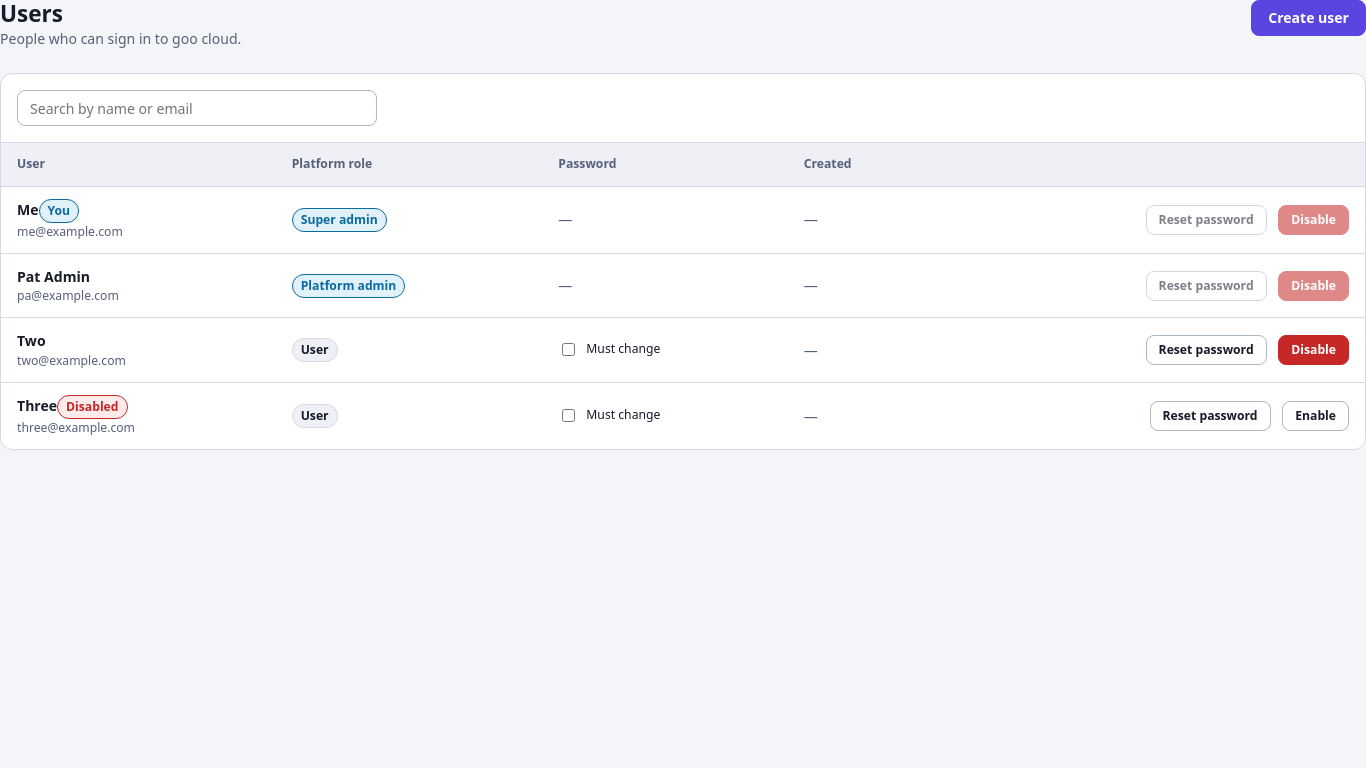
Scenario: UsersPage role-based UI › disable / enable › the server's refusal is surfaced in the dialog and the row is unchanged
The image size is (1366, 768).
What coordinates should you click on to do the following:
click the button with aria-label "Disable two@example.com"
I would click on:
 (1314, 350)
Its box is left=1278, top=335, right=1349, bottom=365.
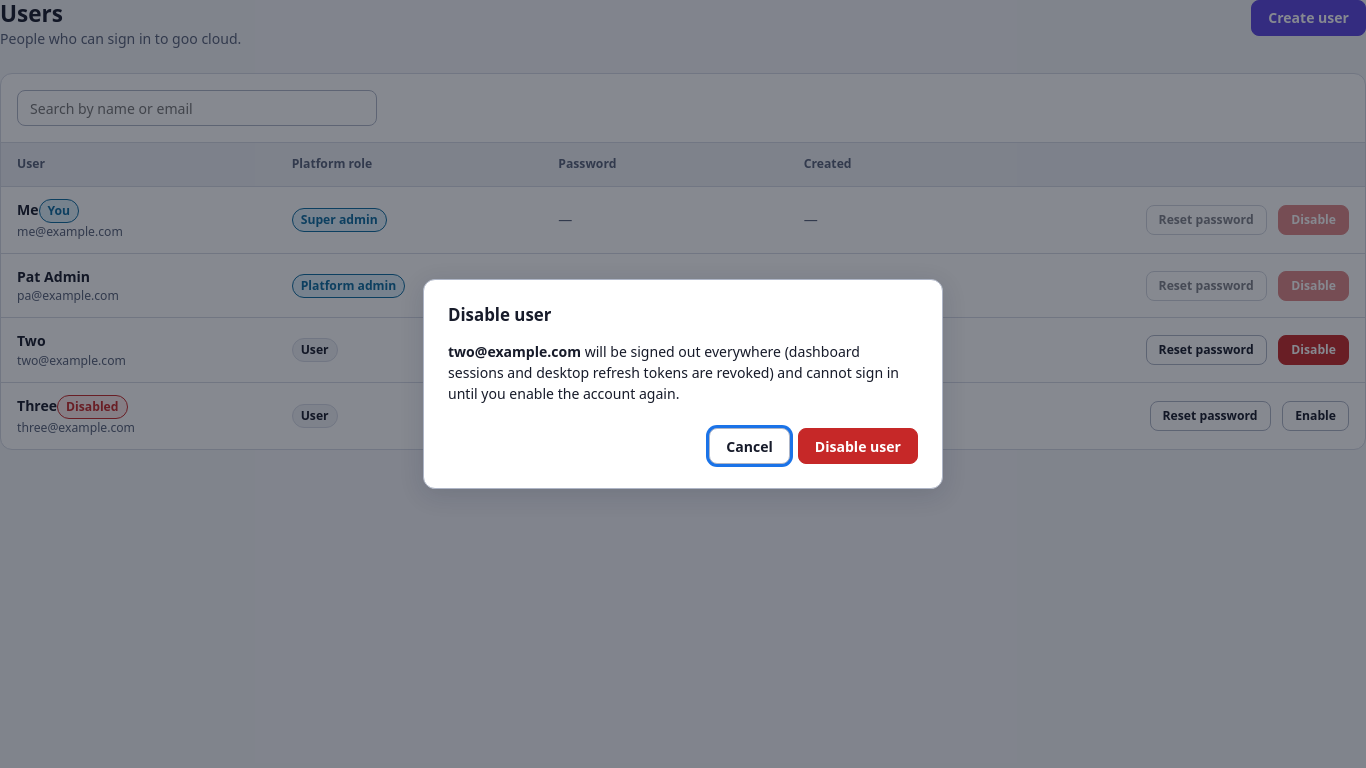
What coordinates should you click on to do the following:
click the button "Disable user"
I would click on:
 (858, 446)
Its box is left=798, top=428, right=918, bottom=464.
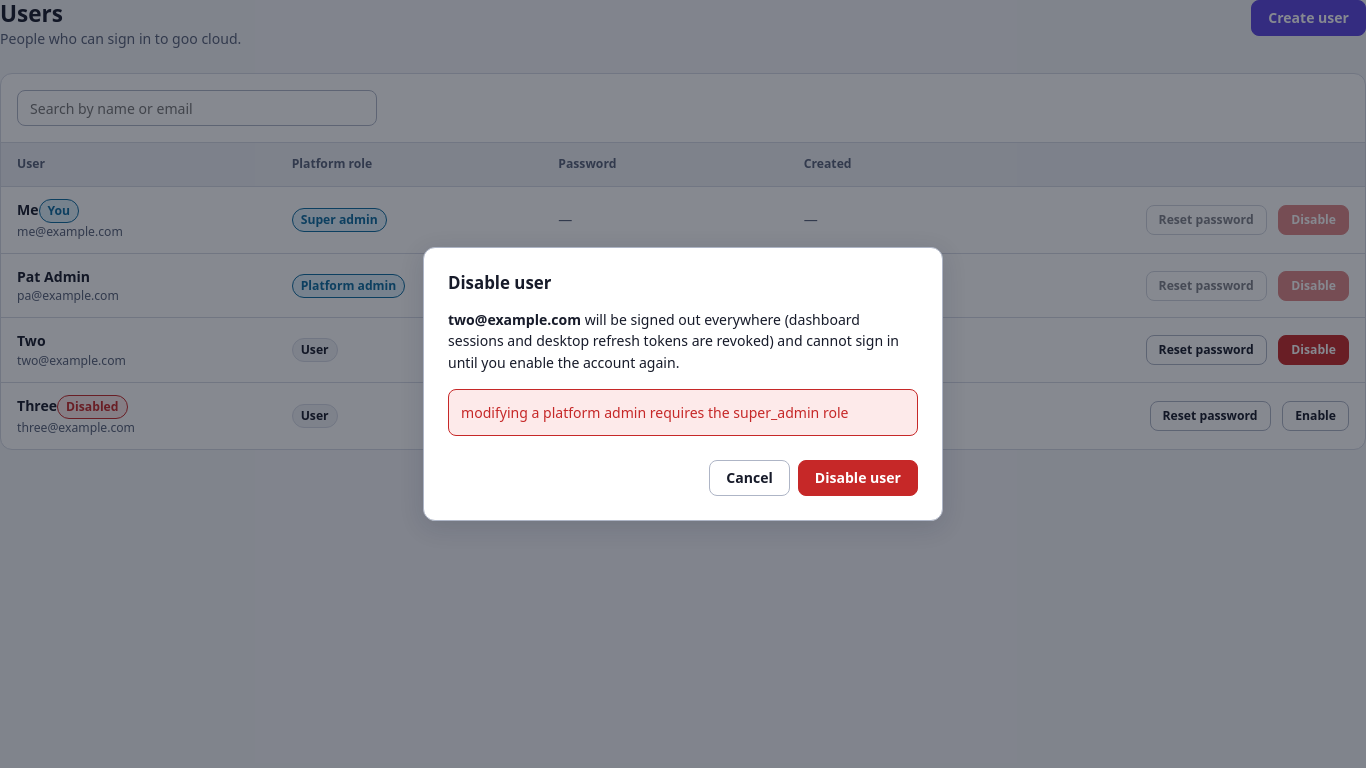
Check: the text "modifying a platform admin requires the super_admin role" is shown, box left=448, top=389, right=918, bottom=436
